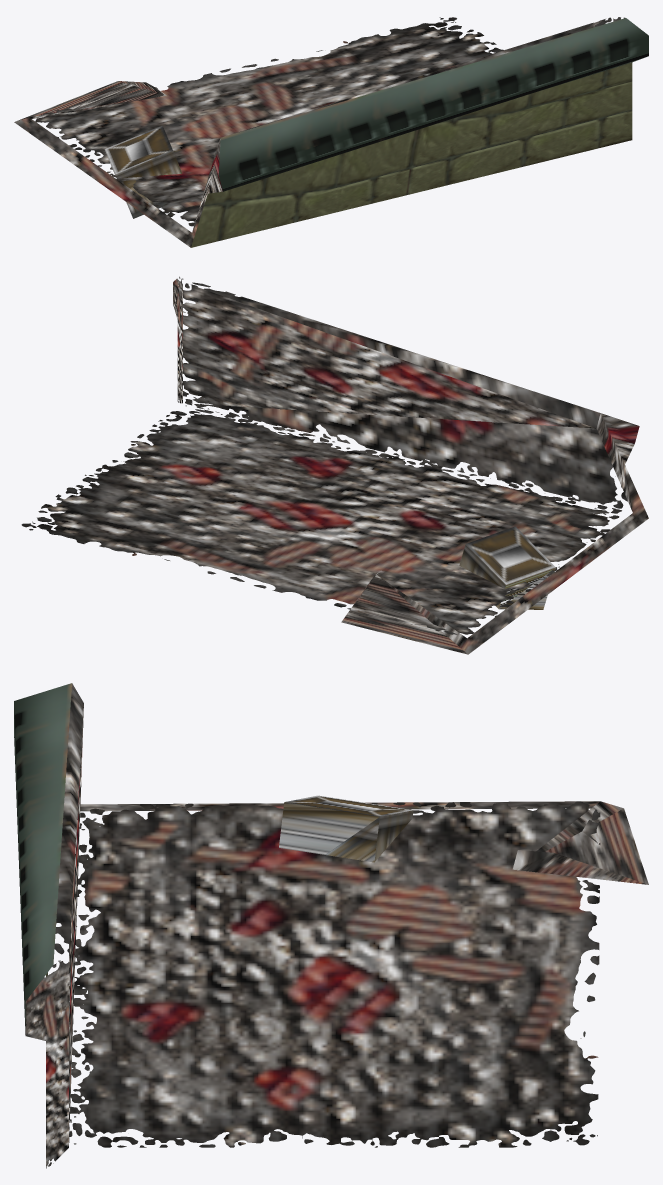
Rendered from l_palacewing_dam.glb.
3 views of the same model, one above another, from view 1: azimuth 30°, elevation 25°; view 2: azimuth 150°, elevation 25°; view 3: azimuth 270°, elevation 25° (orthographic). The views are drawn at different scales.
Parts seen in each view (by area): view 1: Palace_wing_dam; view 2: Palace_wing_dam; view 3: Palace_wing_dam.
Boxes of the visible parts, x1,y1,x2,y2 form: Palace_wing_dam: (14, 17, 648, 247); Palace_wing_dam: (21, 276, 648, 654); Palace_wing_dam: (14, 683, 648, 1168).
Size of the model in its own units: 31.12 by 10.12 by 22.48.
5 materials, 5 textured.
